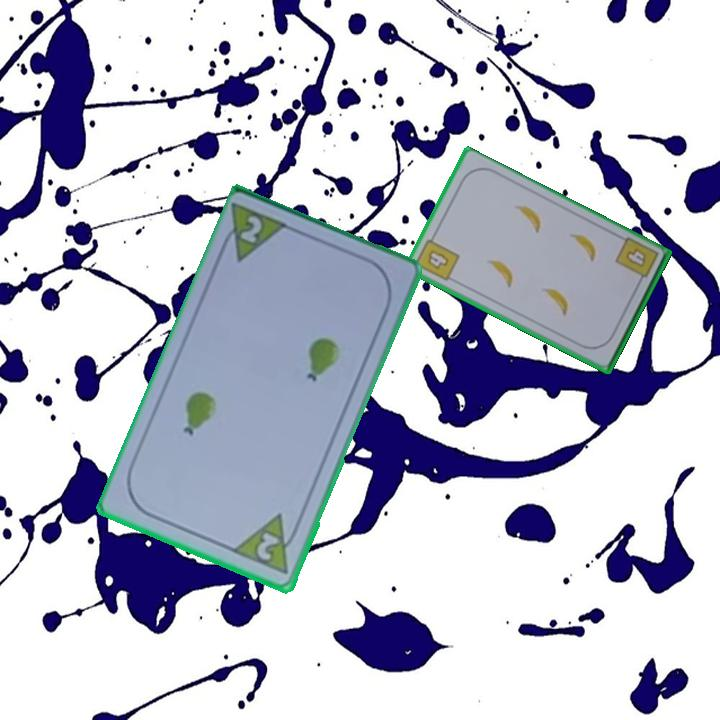2p: (229, 511, 304, 578), (236, 212, 266, 247)
4b: (411, 230, 463, 284), (612, 234, 661, 288)
